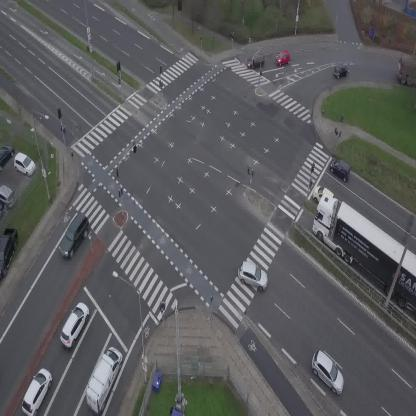car: (304, 348, 352, 397), (52, 211, 96, 260), (55, 300, 94, 350), (17, 366, 56, 416), (233, 259, 273, 293), (326, 156, 354, 182), (310, 182, 335, 203), (245, 52, 266, 69), (331, 62, 350, 80), (274, 50, 292, 66)
lorry: (79, 344, 128, 416), (398, 53, 416, 86)
